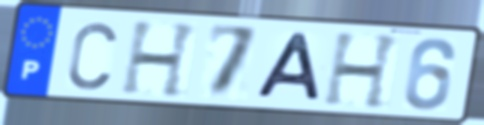6: (401, 37, 457, 112)
7: (205, 22, 258, 102)
A: (253, 31, 324, 104)
C: (64, 18, 119, 92)
H: (320, 31, 405, 112), (118, 20, 203, 100)
